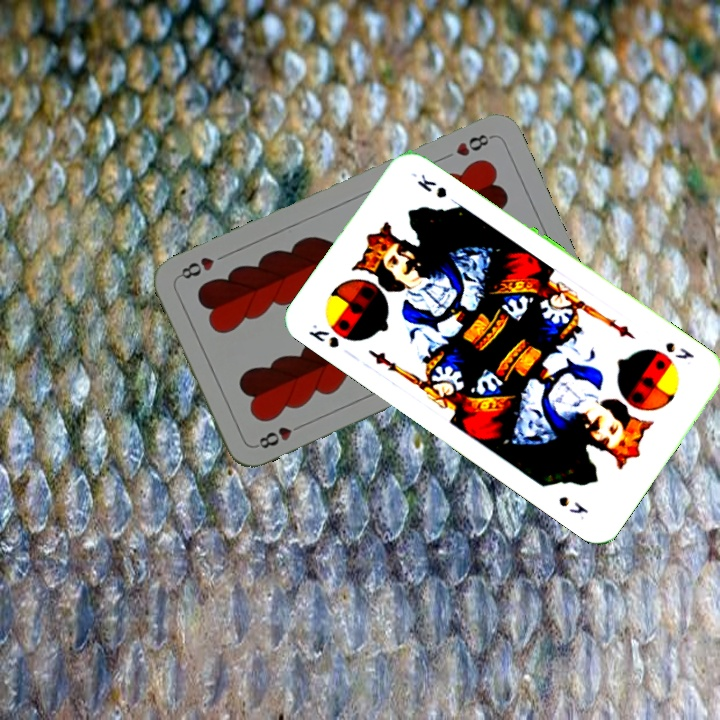H8: (251, 419, 307, 452), (451, 130, 495, 159)
SK: (304, 319, 342, 351), (661, 338, 697, 362)
